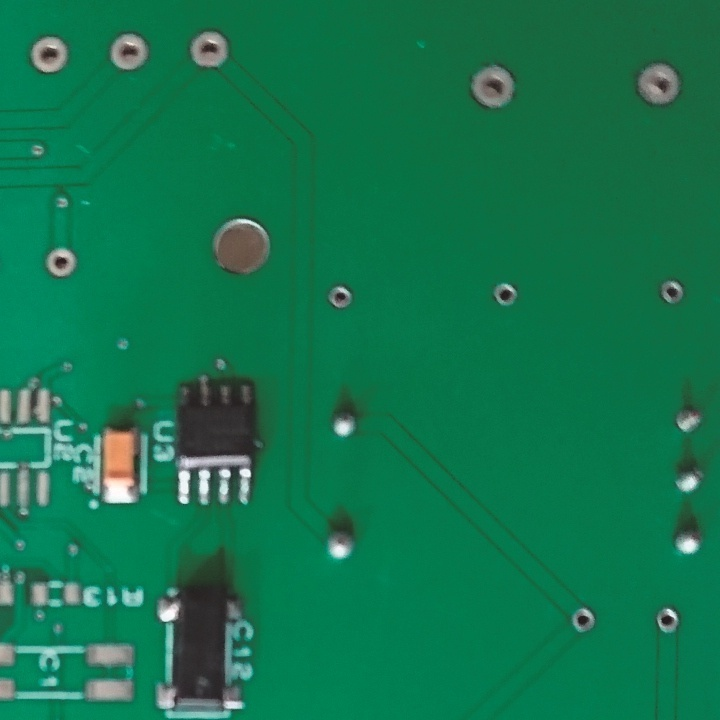F: (467, 61, 521, 112), (634, 58, 683, 110), (186, 29, 231, 70), (27, 35, 70, 77), (110, 32, 151, 74), (44, 246, 79, 281), (672, 406, 704, 438), (653, 606, 684, 636), (490, 281, 522, 309), (326, 282, 354, 312), (659, 279, 687, 309), (571, 607, 598, 634)
